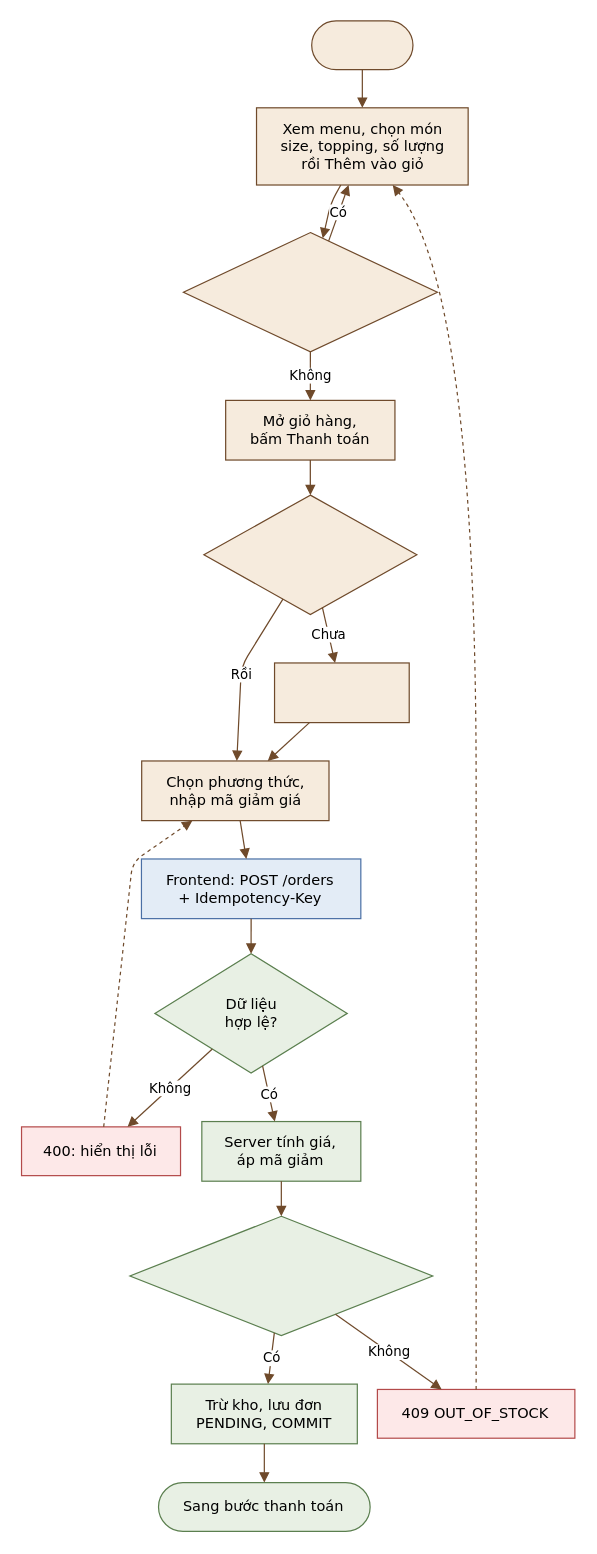
The diagram is 597 pixels wide and 1554 high, and some of its shapes have lost their labels. The box of each missing label's shape, as (x1, y1, x2, y2) in pixels:
Bắt đầu: (310, 20, 413, 70)
Chọn thêm món?: (182, 231, 437, 352)
Đã đăng nhập?: (203, 494, 417, 614)
Đăng nhập / Đăng ký: (273, 662, 409, 723)
Đủ tồn kho? optimistic lock: (129, 1215, 433, 1336)
